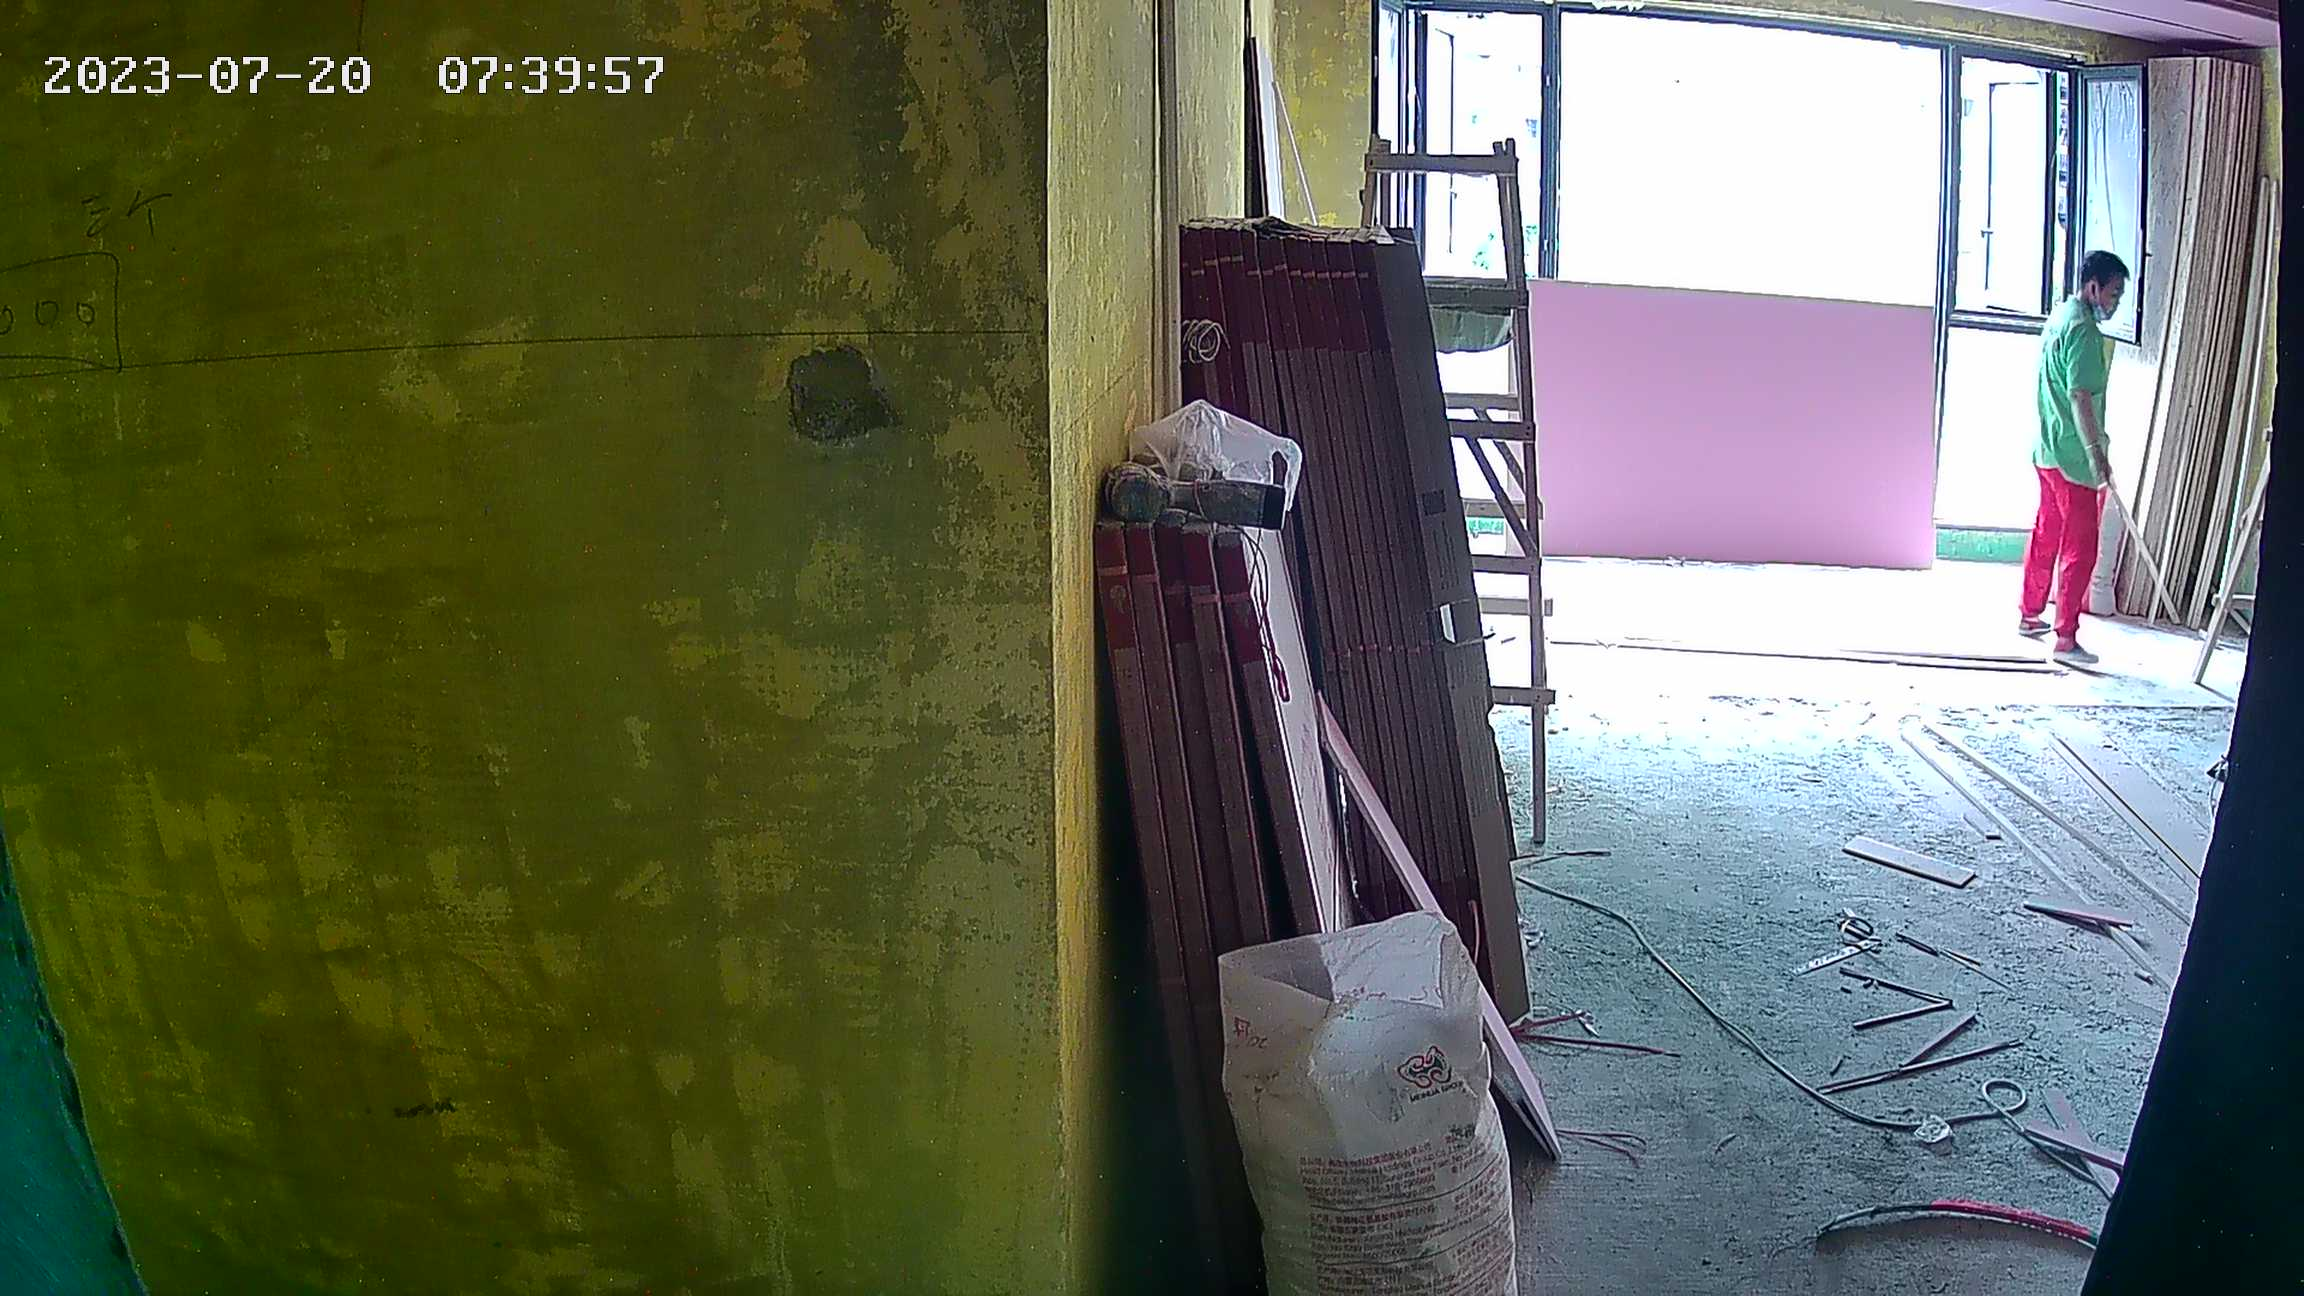people: (2019, 244, 2126, 661)
window: (1391, 14, 2101, 532)
